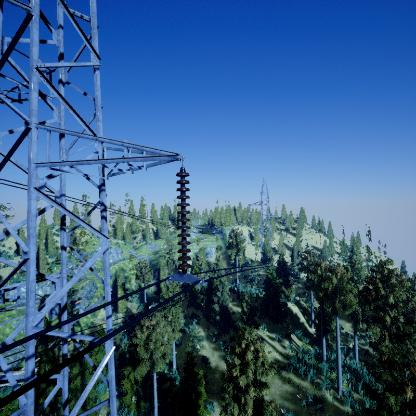insulator: (174, 168, 193, 272)
